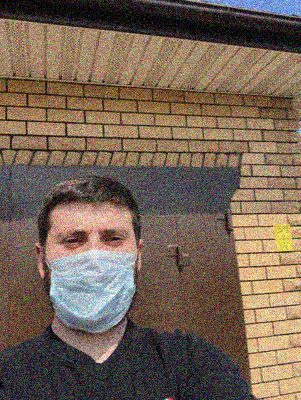with_mask: (45, 215, 138, 336)
